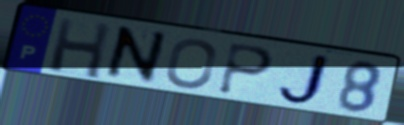8: (335, 59, 383, 115)
H: (46, 16, 113, 81)
J: (274, 51, 334, 109)
N: (100, 24, 171, 87)
O: (163, 38, 219, 90)
P: (215, 41, 276, 98)
